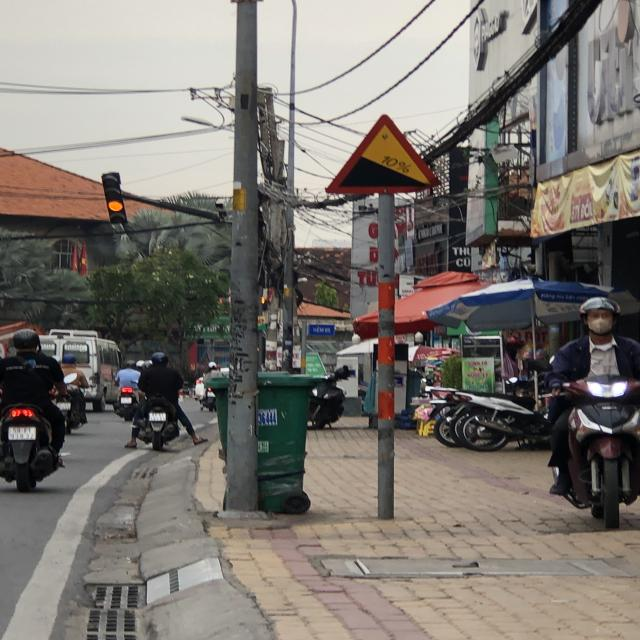Bien bao doc xuong nguy hiem: (320, 110, 446, 200)
